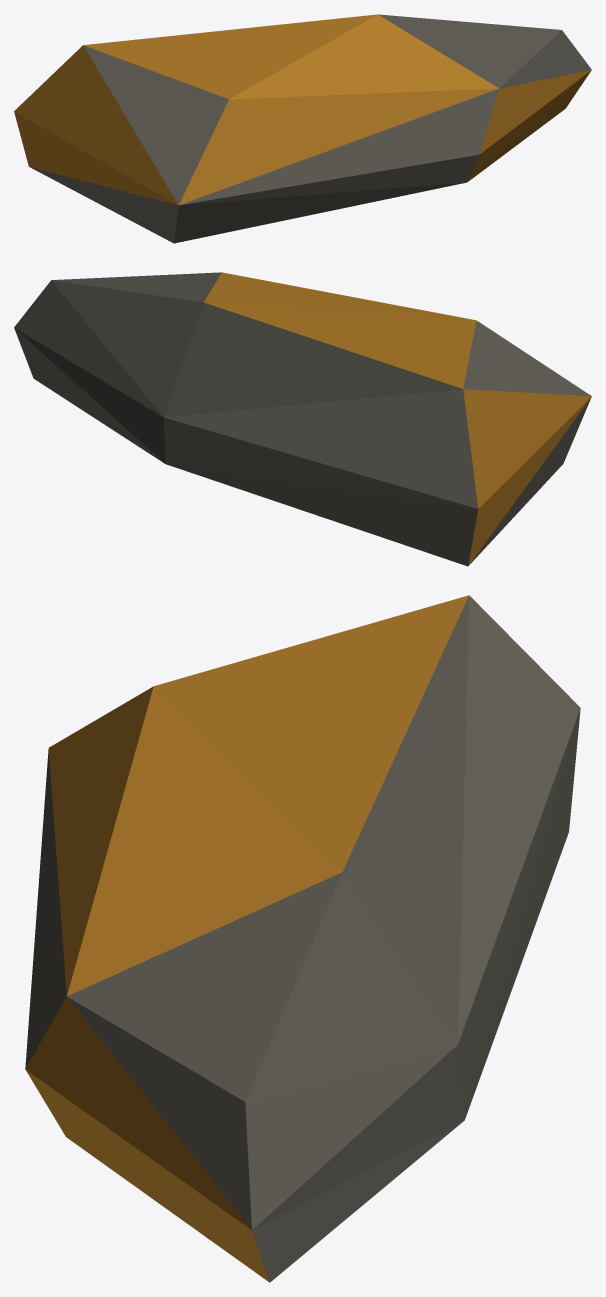
File: ore_gold_v02_lod2.glb
3 views of the same model, one above another, from view 1: azimuth 30°, elevation 25°; view 2: azimuth 150°, elevation 25°; view 3: azimuth 270°, elevation 25° (orthographic). The views are drawn at different scales.
Parts seen in each view (by area): view 1: ore_gold_v02_lod2; view 2: ore_gold_v02_lod2; view 3: ore_gold_v02_lod2.
Boxes of the visible parts, <box> form: ore_gold_v02_lod2: <box>14,14,591,243</box>; ore_gold_v02_lod2: <box>14,272,591,566</box>; ore_gold_v02_lod2: <box>25,595,580,1282</box>.
Size of the model in its own units: 2.76 by 0.7054 by 1.34.
